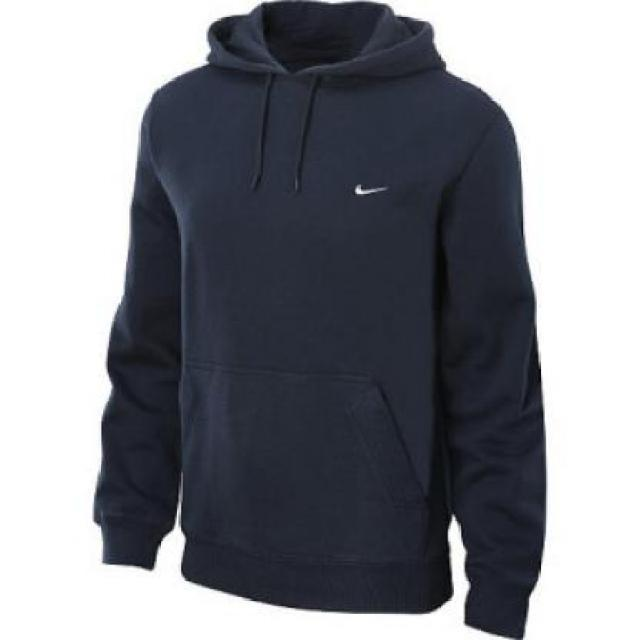Nike: (354, 182, 388, 195)
